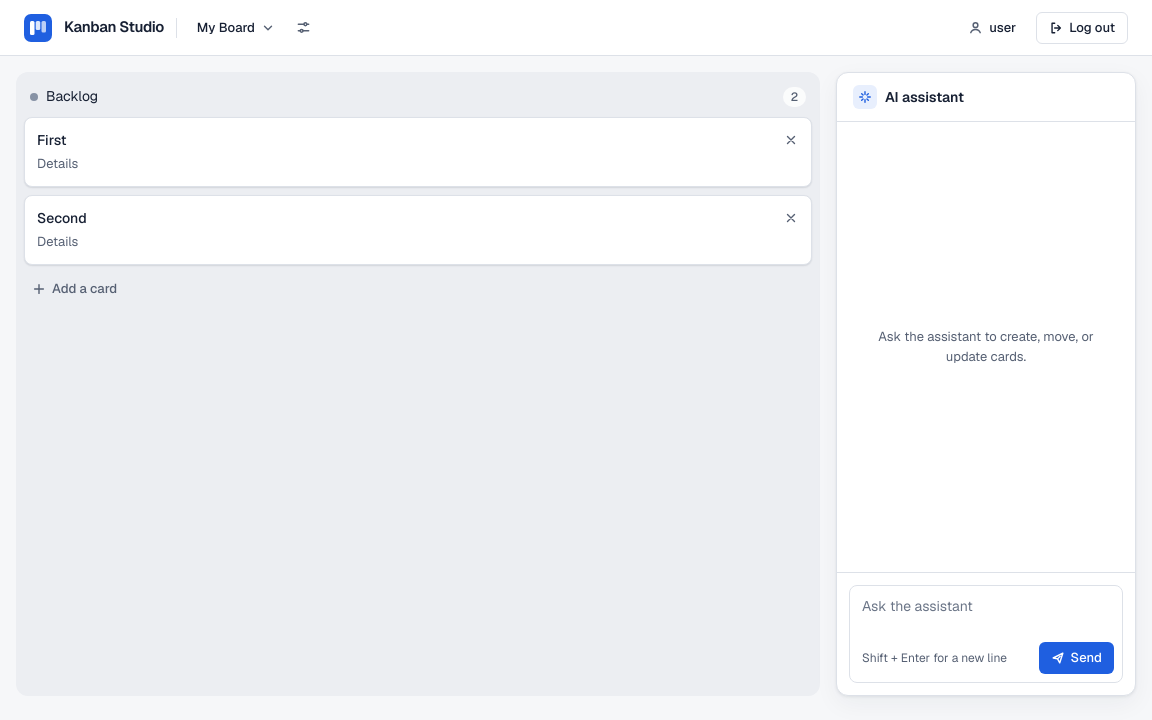
Scenario: Home page: board loading › ignores a slow, older board response that arrives after a newer one
The width and height of the screenshot is (1152, 720).
Step 1. Click the button named "delete first" → (791, 140), box [779,128,803,152]
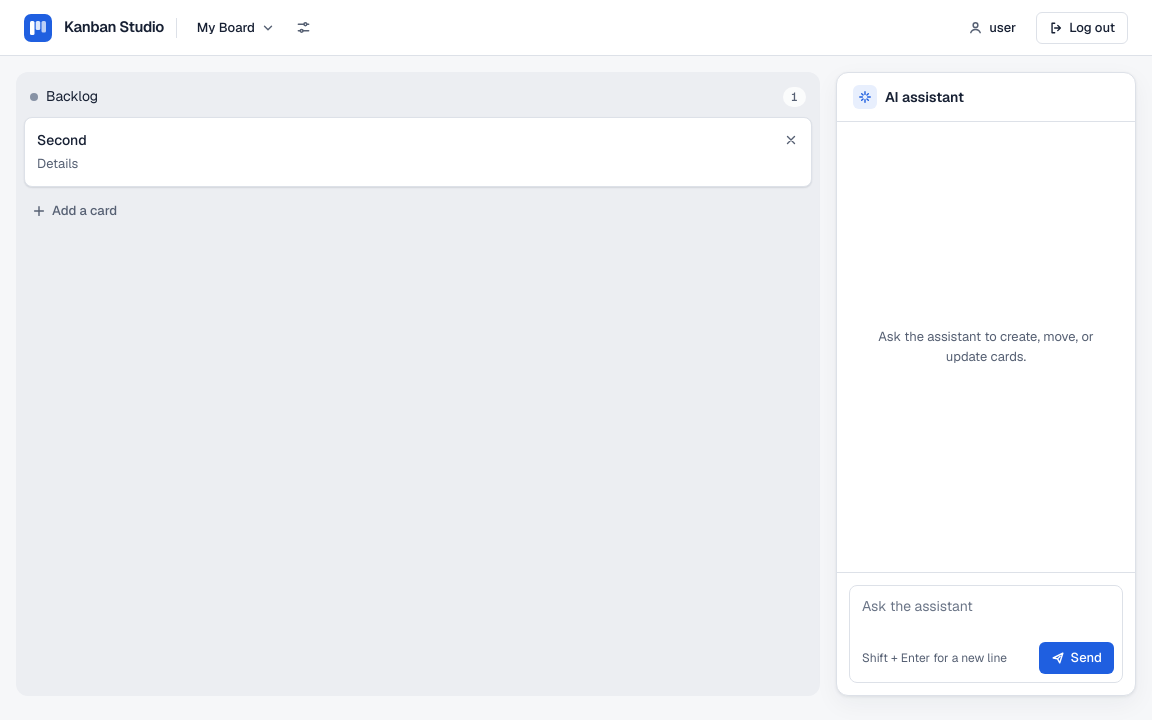
Step 2. Click the button named "delete second" → (791, 140), box [779,128,803,152]
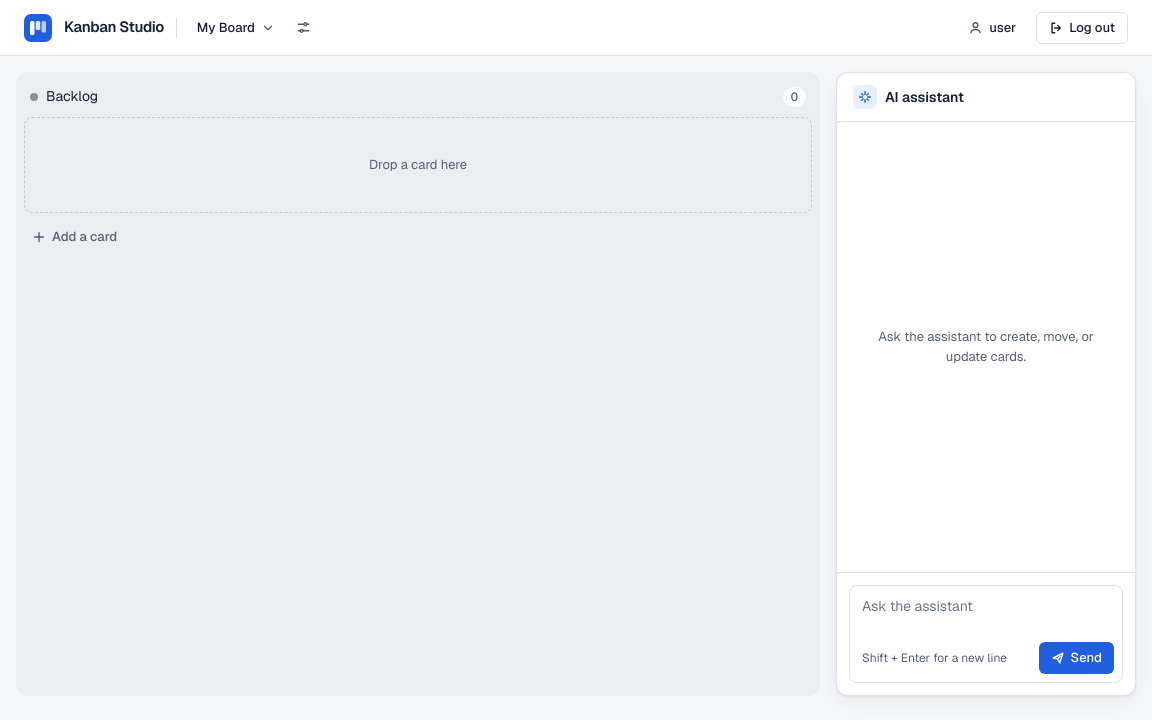
Check: the button "Second" is gone
